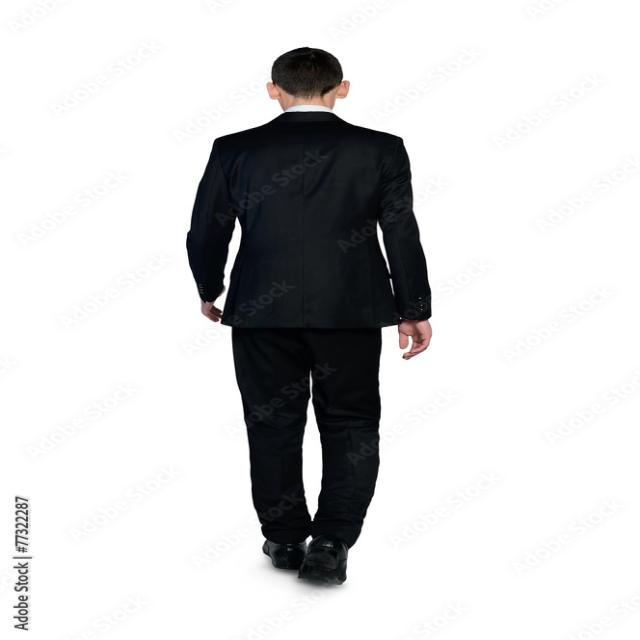Person: (188, 49, 432, 584)
